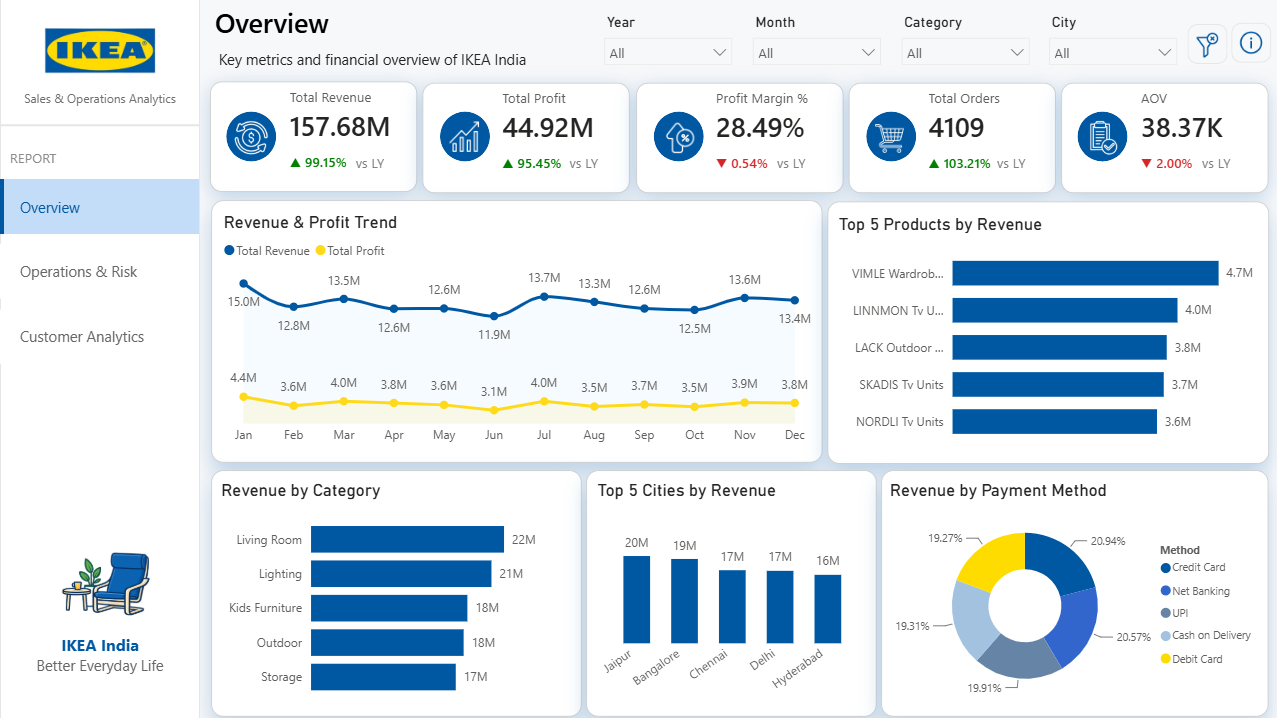

This screenshot's page, from the dashboard's own definition file:
{"tool":"powerbi","page":{"name":"Overview","canvas":[1280,720],"ordinal":0},"visuals":[{"type":"shape","title":"Menu BG","box":[0,0,200,720],"z":0,"group":"g16"},{"type":"textbox","box":[210,0,132.5,50],"z":0},{"type":"image","title":"IKEA LOGO","box":[30,10,140,80],"z":0,"group":"g2"},{"type":"shape","box":[1231.4,24,40,40],"z":0,"group":"g15"},{"type":"shape","box":[1187.7,25,40,40],"z":0,"group":"g14"},{"type":"cardVisual","fields":{"Data":["_Measures.Total Revenue"]},"box":[210,82.5,207.5,110],"z":0,"group":"g4"},{"type":"pageNavigator","title":"Menu Buttons","box":[0,180,199,187.5],"z":0,"group":"g3"},{"type":"shape","box":[827.5,202.5,441.2,262.5],"z":0,"group":"g10"},{"type":"image","title":"IKEA Illustration","box":[0,483,200,200],"z":0,"group":"g1"},{"type":"textbox","box":[210,45,350,30],"z":1000},{"type":"textbox","box":[0,85,200,30],"z":1000,"group":"g2"},{"type":"shape","box":[226.2,112.5,50,50],"z":1000,"group":"g4"},{"type":"shape","title":"Divider","box":[0,115,200,22.5],"z":1000,"group":"g16"},{"type":"textbox","title":"REPORT","box":[5,145,65,36.2],"z":1000,"group":"g3"},{"type":"shape","box":[881.2,471.2,387.5,246.2],"z":1000,"group":"g13"},{"type":"textbox","title":"Tag Line","box":[8.8,630,182.5,62.5],"z":1000,"group":"g1"},{"type":"slicer","fields":{"Values":["Calendar.Month"]},"box":[742.2,10,148.8,65],"z":2000},{"type":"shape","box":[350,152,40,20],"z":2000,"group":"g4"},{"type":"shape","box":[586.2,471.2,290,246.2],"z":2000,"group":"g12"},{"type":"group","id":"g1","title":"IKEA Illustration & TagLine","box":[0,483,200,209.5],"z":2000,"group":"g16"},{"type":"group","id":"g2","title":"IKEA LOGO","box":[0,10,200,105],"z":3000,"group":"g16"},{"type":"slicer","fields":{"Values":["Calendar.Year"]},"box":[593.8,10,148.8,65],"z":3000},{"type":"image","box":[231.2,118.7,40,40],"z":3000,"group":"g4"},{"type":"shape","box":[211.2,471.2,370,246.2],"z":3000,"group":"g11"},{"type":"slicer","fields":{"Values":["Products.Category"]},"box":[890.6,10,148.8,65],"z":4000},{"type":"group","id":"g3","title":"Report Section","box":[0,145,199,222.5],"z":4000,"group":"g16"},{"type":"shape","box":[211.2,201.2,611,262.5],"z":4000,"group":"g9"},{"type":"slicer","fields":{"Values":["Customers.City"]},"box":[1039.1,10,148.8,65],"z":5000},{"type":"group","id":"g4","title":"Group 2","box":[210,82.5,207.5,110],"z":6000},{"type":"group","id":"g5","title":"Group 3","box":[422.8,83.5,207.5,110],"z":7000},{"type":"group","id":"g6","title":"Group 4","box":[635.6,83.5,207.5,110],"z":8000},{"type":"group","id":"g7","title":"Group 5","box":[848.8,83.5,207.5,110],"z":9000},{"type":"group","id":"g8","title":"Group 6","box":[1061.2,83.5,207.5,110],"z":10000},{"type":"group","id":"g9","title":"Group 7","box":[211.2,201.2,611,262.5],"z":11000},{"type":"cardVisual","fields":{"Data":["_Measures.Total Profit"]},"box":[422.8,83.5,207.5,110],"z":12000,"group":"g5"},{"type":"group","id":"g10","title":"Group 8","box":[827.5,202.5,441.2,262.5],"z":12000},{"type":"cardVisual","fields":{"Data":["_Measures.Profit Margin %"]},"box":[635.6,83.5,207.5,110],"z":13000,"group":"g6"},{"type":"group","id":"g11","title":"Group 9","box":[211.2,471.2,370,246.2],"z":13000},{"type":"cardVisual","fields":{"Data":["_Measures.Total Orders"]},"box":[848.8,83.5,207.5,110],"z":14000,"group":"g7"},{"type":"group","id":"g12","title":"Group 10","box":[586.2,471.2,290,246.2],"z":14000},{"type":"cardVisual","fields":{"Data":["_Measures.Average Order Value"]},"box":[1061.2,83.5,207.5,110],"z":15000,"group":"g8"},{"type":"group","id":"g13","title":"Group 11","box":[881.2,471.2,387.5,246.2],"z":15000},{"type":"group","id":"g14","title":"Group 1","box":[1187.7,25,40,40],"z":16000},{"type":"group","id":"g15","title":"Group 12","box":[1231.4,24,40,40],"z":17000},{"type":"barChart","title":"Revenue by Category","fields":{"Y":["_Measures.Total Revenue"],"Category":["Products.Category"]},"box":[216.2,481.2,360,230],"z":17000,"group":"g11"},{"type":"group","id":"g16","title":"Group 13","box":[0,0,200,720],"z":18000},{"type":"lineChart","title":"Revenue & Profit Trend","fields":{"Category":["Calendar.Month"],"Y":["_Measures.Total Revenue","_Measures.Total Profit"]},"box":[218.7,212.4,601.2,241.2],"z":18000,"group":"g9"},{"type":"barChart","title":"Top 5 Products by Revenue","fields":{"Y":["_Measures.Total Revenue"],"Category":["Products.Product_Name"]},"box":[833.7,215,425,241.2],"z":19000,"group":"g10"},{"type":"columnChart","title":"Top 5 Cities by Revenue","fields":{"Y":["_Measures.Total Revenue"],"Category":["Customers.City"]},"box":[592.4,481.2,275,231.2],"z":20000,"group":"g12"},{"type":"shape","box":[563.7,152,40,20],"z":21000,"group":"g5"},{"type":"donutChart","title":"Revenue by Payment Method","fields":{"Category":["Orders.Payment_Method"],"Y":["_Measures.Total Revenue"]},"box":[884.4,480.7,380.1,232.2],"z":21000,"group":"g13"},{"type":"shape","box":[770.6,152.3,40,20],"z":22000,"group":"g6"},{"type":"image","box":[1195.6,33.6,25,25],"z":22001,"group":"g14"},{"type":"image","box":[1239.2,31.6,25,25],"z":22002,"group":"g15"},{"type":"shape","box":[991.3,152.3,40,20],"z":23000,"group":"g7"},{"type":"shape","box":[1196.2,152,40,20],"z":24000,"group":"g8"},{"type":"shape","box":[440.6,112.5,50,50],"z":25000,"group":"g5"},{"type":"shape","box":[652.5,112.5,50,50],"z":26000,"group":"g6"},{"type":"shape","box":[865.7,112.5,50,50],"z":27000,"group":"g7"},{"type":"shape","box":[1077.4,112.5,50,50],"z":28000,"group":"g8"},{"type":"image","box":[446.6,122.3,36.2,30],"z":30000,"group":"g5"},{"type":"image","box":[663.7,123.7,30,30],"z":31000,"group":"g6"},{"type":"image","box":[875.3,124.5,29,29],"z":32000,"group":"g7"},{"type":"image","box":[1083.7,118.5,40,40],"z":33000,"group":"g8"}]}

Visuals, with their boxes in screenshot pixels (x1, y1, x2, y2), scaled from the page's 1280x720 canvas onto the 1277x718 screenshot:
"Menu BG" shape: <bbox>0, 0, 200, 717</bbox>
textbox: <bbox>210, 0, 342, 50</bbox>
"IKEA LOGO" image: <bbox>30, 10, 170, 90</bbox>
shape: <bbox>1229, 24, 1268, 64</bbox>
shape: <bbox>1185, 25, 1225, 65</bbox>
cardVisual - _Measures.Total Revenue: <bbox>210, 82, 417, 192</bbox>
"Menu Buttons" pageNavigator: <bbox>0, 180, 199, 366</bbox>
shape: <bbox>826, 202, 1266, 464</bbox>
"IKEA Illustration" image: <bbox>0, 482, 200, 681</bbox>
textbox: <bbox>210, 45, 559, 75</bbox>
textbox: <bbox>0, 85, 200, 115</bbox>
shape: <bbox>226, 112, 276, 162</bbox>
"Divider" shape: <bbox>0, 115, 200, 137</bbox>
"REPORT" textbox: <bbox>5, 145, 70, 181</bbox>
shape: <bbox>879, 470, 1266, 715</bbox>
"Tag Line" textbox: <bbox>9, 628, 191, 691</bbox>
slicer - Calendar.Month: <bbox>740, 10, 889, 75</bbox>
shape: <bbox>349, 152, 389, 172</bbox>
shape: <bbox>585, 470, 874, 715</bbox>
"IKEA Illustration & TagLine" group: <bbox>0, 482, 200, 691</bbox>
"IKEA LOGO" group: <bbox>0, 10, 200, 115</bbox>
slicer - Calendar.Year: <bbox>592, 10, 741, 75</bbox>
image: <bbox>231, 118, 271, 158</bbox>
shape: <bbox>211, 470, 580, 715</bbox>
slicer - Products.Category: <bbox>889, 10, 1037, 75</bbox>
"Report Section" group: <bbox>0, 145, 199, 366</bbox>
shape: <bbox>211, 201, 820, 462</bbox>
slicer - Customers.City: <bbox>1037, 10, 1185, 75</bbox>
"Group 2" group: <bbox>210, 82, 417, 192</bbox>
"Group 3" group: <bbox>422, 83, 629, 193</bbox>
"Group 4" group: <bbox>634, 83, 841, 193</bbox>
"Group 5" group: <bbox>847, 83, 1054, 193</bbox>
"Group 6" group: <bbox>1059, 83, 1266, 193</bbox>
"Group 7" group: <bbox>211, 201, 820, 462</bbox>
cardVisual - _Measures.Total Profit: <bbox>422, 83, 629, 193</bbox>
"Group 8" group: <bbox>826, 202, 1266, 464</bbox>
cardVisual - _Measures.Profit Margin %: <bbox>634, 83, 841, 193</bbox>
"Group 9" group: <bbox>211, 470, 580, 715</bbox>
cardVisual - _Measures.Total Orders: <bbox>847, 83, 1054, 193</bbox>
"Group 10" group: <bbox>585, 470, 874, 715</bbox>
cardVisual - _Measures.Average Order Value: <bbox>1059, 83, 1266, 193</bbox>
"Group 11" group: <bbox>879, 470, 1266, 715</bbox>
"Group 1" group: <bbox>1185, 25, 1225, 65</bbox>
"Group 12" group: <bbox>1229, 24, 1268, 64</bbox>
"Revenue by Category" barChart: <bbox>216, 480, 575, 709</bbox>
"Group 13" group: <bbox>0, 0, 200, 717</bbox>
"Revenue & Profit Trend" lineChart: <bbox>218, 212, 818, 452</bbox>
"Top 5 Products by Revenue" barChart: <bbox>832, 214, 1256, 455</bbox>
"Top 5 Cities by Revenue" columnChart: <bbox>591, 480, 865, 710</bbox>
shape: <bbox>562, 152, 602, 172</bbox>
"Revenue by Payment Method" donutChart: <bbox>882, 479, 1262, 711</bbox>
shape: <bbox>769, 152, 809, 172</bbox>
image: <bbox>1193, 34, 1218, 58</bbox>
image: <bbox>1236, 32, 1261, 56</bbox>
shape: <bbox>989, 152, 1029, 172</bbox>
shape: <bbox>1193, 152, 1233, 172</bbox>
shape: <bbox>440, 112, 489, 162</bbox>
shape: <bbox>651, 112, 701, 162</bbox>
shape: <bbox>864, 112, 914, 162</bbox>
shape: <bbox>1075, 112, 1125, 162</bbox>
image: <bbox>446, 122, 482, 152</bbox>
image: <bbox>662, 123, 692, 153</bbox>
image: <bbox>873, 124, 902, 153</bbox>
image: <bbox>1081, 118, 1121, 158</bbox>
